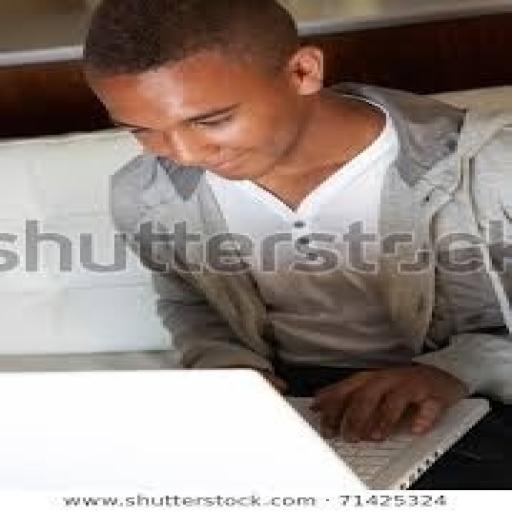using_laptop: (0, 300, 460, 512)
